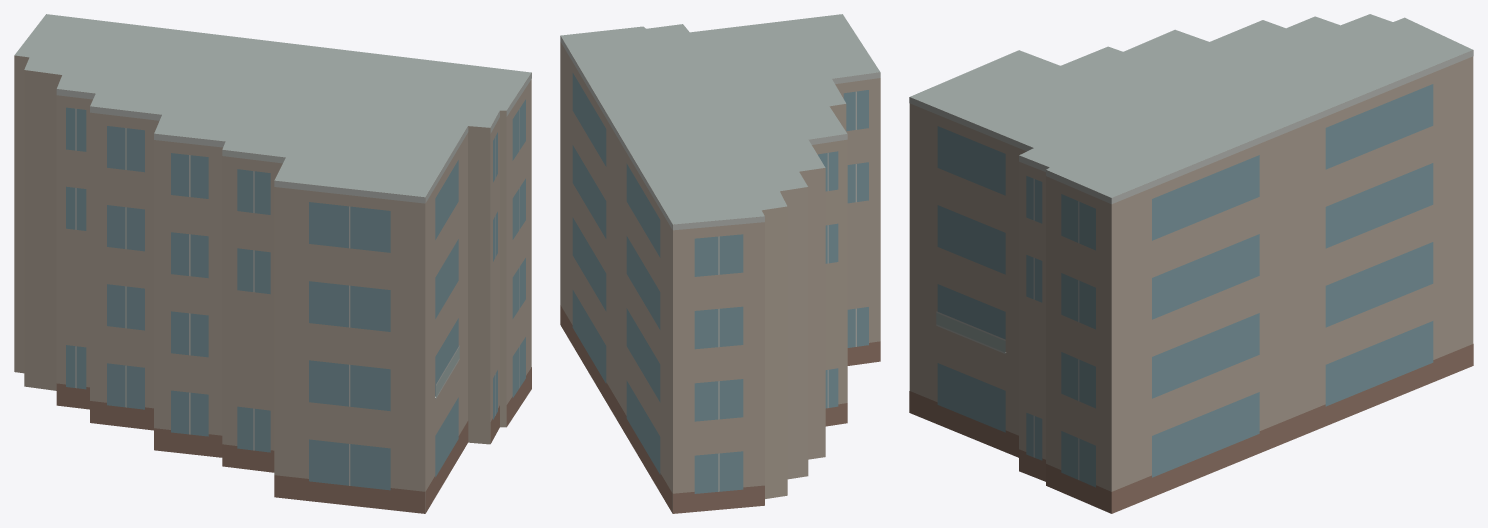
Rendered from survey-upis-32814011.glb.
3 views of the same model, side by side, from view 1: azimuth 30°, elevation 25°; view 2: azimuth 150°, elevation 25°; view 3: azimuth 270°, elevation 25° (orthographic). The views are drawn at different scales.
Parts seen in each view (by area): view 1: survey-upis-32814011.tmp; view 2: survey-upis-32814011.tmp; view 3: survey-upis-32814011.tmp.
Boxes of the visible parts, bbox=[...] form: survey-upis-32814011.tmp: bbox=[14, 14, 531, 513]; survey-upis-32814011.tmp: bbox=[560, 14, 880, 513]; survey-upis-32814011.tmp: bbox=[909, 14, 1473, 513].
Size of the model in its own units: 15.25 by 12.2 by 19.74.
